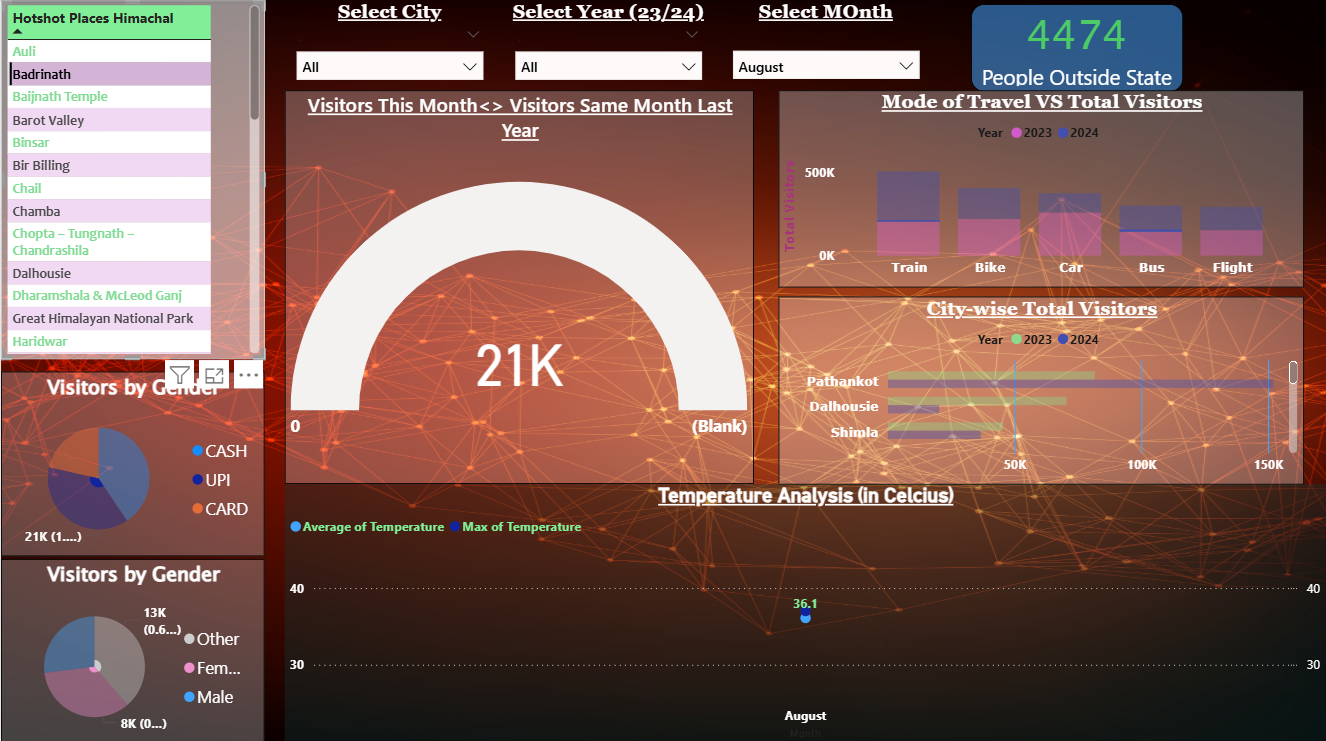

This screenshot's page, from the dashboard's own definition file:
{"tool":"powerbi","page":{"name":"Page 1","canvas":[1280,720],"ordinal":0},"visuals":[{"type":"card","fields":{"Values":["Sum(Table1.Outside State Visitors)"]},"box":[936.2,5,205,85],"z":0},{"type":"clusteredBarChart","title":"City-wise Total Visitors","fields":{"Category":["Table1.City"],"Y":["Sum(Table1.Count of People Within State)"],"Series":["Table1.Year"]},"box":[750,287.1,507.1,181.4],"z":1000},{"type":"columnChart","title":"Mode of Travel VS Total Visitors","fields":{"Category":["Table1.Mode of Travel"],"Y":["Sum(Table1.Total Visitors)"],"Series":["Table1.Year"]},"box":[750,88.6,507.1,190],"z":2000},{"type":"slicer","title":"Select City","fields":{"Values":["Table1.City"]},"box":[274.6,0.6,200,89],"z":3000},{"type":"slicer","title":"Select Year (23/24)","fields":{"Values":["Table1.Year"]},"box":[485.6,0.6,200,89],"z":4000},{"type":"gauge","title":"Visitors This Month<> Visitors Same Month Last Year","fields":{"Y":["Table1.Visitors This Month (From Slicer)"],"TargetValue":["Table1.Visitors Same Month Last Year (From Slicer)"],"MaxValue":["Table1.Max Gauge Visitors"]},"box":[274.3,88.6,452.9,380],"z":5000},{"type":"slicer","title":"Select MOnth","fields":{"Values":["Table1.Month"]},"box":[695.6,0.6,200,89],"z":6000},{"type":"pieChart","title":"Visitors by Gender","fields":{"Y":["Sum(Table1.Total Visitors)"],"Category":["Table1.Mode of Payment"]},"box":[0,360,254.3,178.6],"z":7000},{"type":"pieChart","title":"Visitors by Gender","fields":{"Category":["Table1.Gender"],"Y":["Sum(Table1.Total Visitors)"]},"box":[0,540,254.3,180],"z":8000},{"type":"lineChart","title":"Temperature Analysis (in Celcius)","fields":{"Category":["Table1.Month"],"Y":["Avg(Table1.Temperature)"],"Y2":["Max(Table1.Temperature)1"]},"box":[274.3,468.6,1005.7,251.4],"z":9000},{"type":"tableEx","fields":{"Values":["Table1.Hotshot Places"]},"box":[0,1.4,254.3,345.7],"z":10000}]}

Visuals, with their boxes in screenshot pixels (x1, y1, x2, y2), scaled from the page's 1280x720 canvas onto the 1326x741 screenshot:
card - Sum(Table1.Outside State Visitors): 970, 5, 1182, 93
"City-wise Total Visitors" clusteredBarChart: 777, 295, 1302, 482
"Mode of Travel VS Total Visitors" columnChart: 777, 91, 1302, 287
"Select City" slicer: 284, 1, 492, 92
"Select Year (23/24)" slicer: 503, 1, 710, 92
"Visitors This Month<> Visitors Same Month Last Year" gauge: 284, 91, 753, 482
"Select MOnth" slicer: 721, 1, 928, 92
"Visitors by Gender" pieChart: 0, 370, 263, 554
"Visitors by Gender" pieChart: 0, 556, 263, 740
"Temperature Analysis (in Celcius)" lineChart: 284, 482, 1325, 740
tableEx - Table1.Hotshot Places: 0, 1, 263, 357
